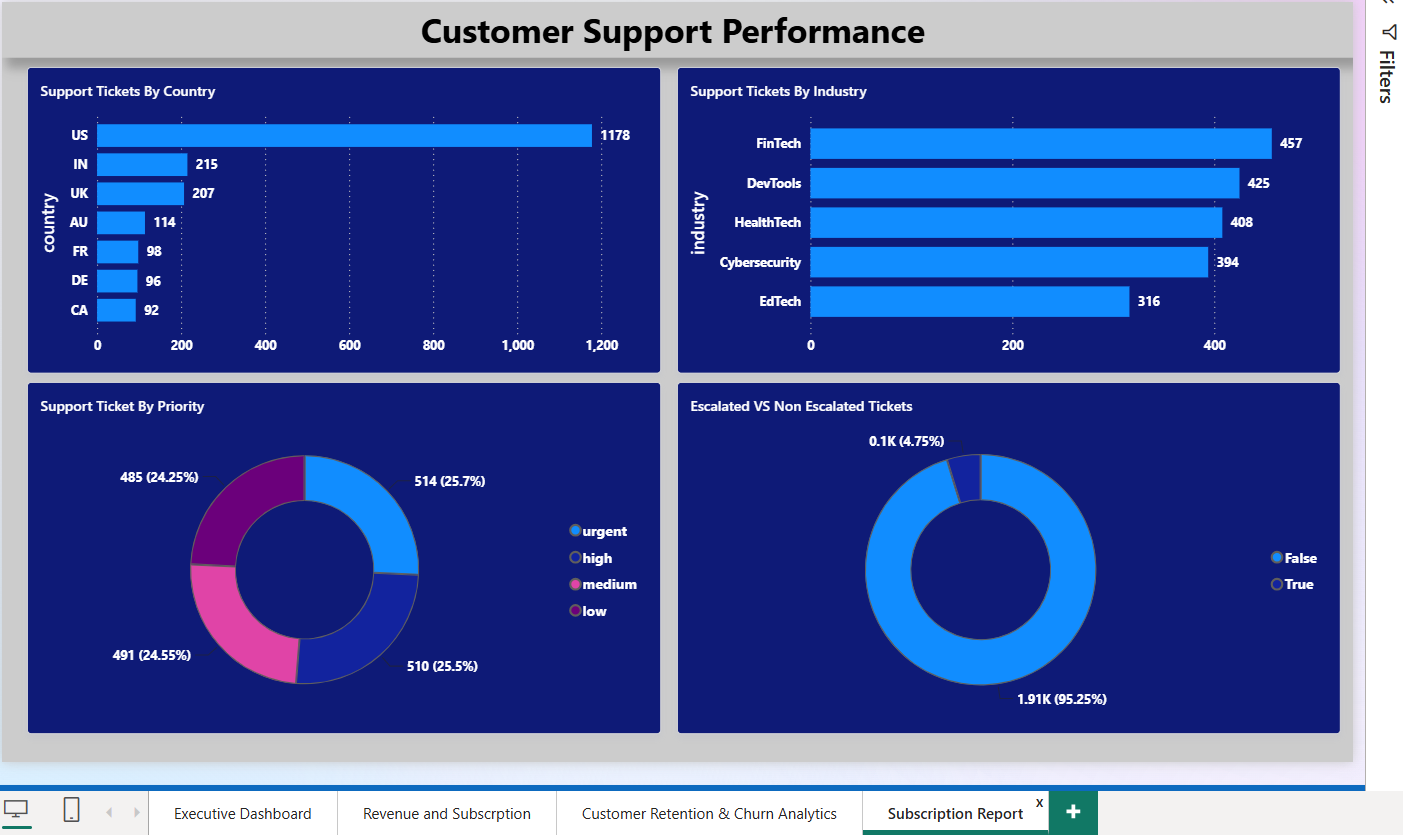

What the dashboard file says about the page in this screenshot:
{"tool":"powerbi","page":{"name":"Subscription Report ","canvas":[1280,720],"ordinal":3},"visuals":[{"type":"donutChart","title":"Support Ticket By Priority ","fields":{"Category":["support_tickets.priority"],"Y":["CountNonNull(support_tickets.ticket_id)"]},"box":[23.7,360,600.4,334],"z":0},{"type":"textbox","box":[0,0,1280,52.5],"z":1000},{"type":"clusteredBarChart","title":"Support Tickets By Industry","fields":{"Category":["accounts.industry"],"Y":["CountNonNull(support_tickets.ticket_id)"]},"box":[639.5,61.6,628.9,290.2],"z":2000},{"type":"donutChart","title":"Escalated VS Non Escalated Tickets","fields":{"Category":["support_tickets.escalation_flag"],"Y":["CountNonNull(support_tickets.ticket_id)"]},"box":[639.5,360,628.9,334],"z":4000},{"type":"barChart","title":"Support Tickets By Country","fields":{"Category":["accounts.country"],"Y":["CountNonNull(support_tickets.ticket_id)"]},"box":[23.7,61.6,600.4,290.2],"z":5000}]}

Visuals, with their boxes on the page's 1280x720 design canvas (x1, y1, x2, y2). These are canvas units, not pixel positions in the 1403x835 screenshot, which may show the page scaled, cropped or inside an application window:
"Support Ticket By Priority " donutChart: box=[24, 360, 624, 694]
textbox: box=[0, 0, 1280, 52]
"Support Tickets By Industry" clusteredBarChart: box=[640, 62, 1268, 352]
"Escalated VS Non Escalated Tickets" donutChart: box=[640, 360, 1268, 694]
"Support Tickets By Country" barChart: box=[24, 62, 624, 352]
